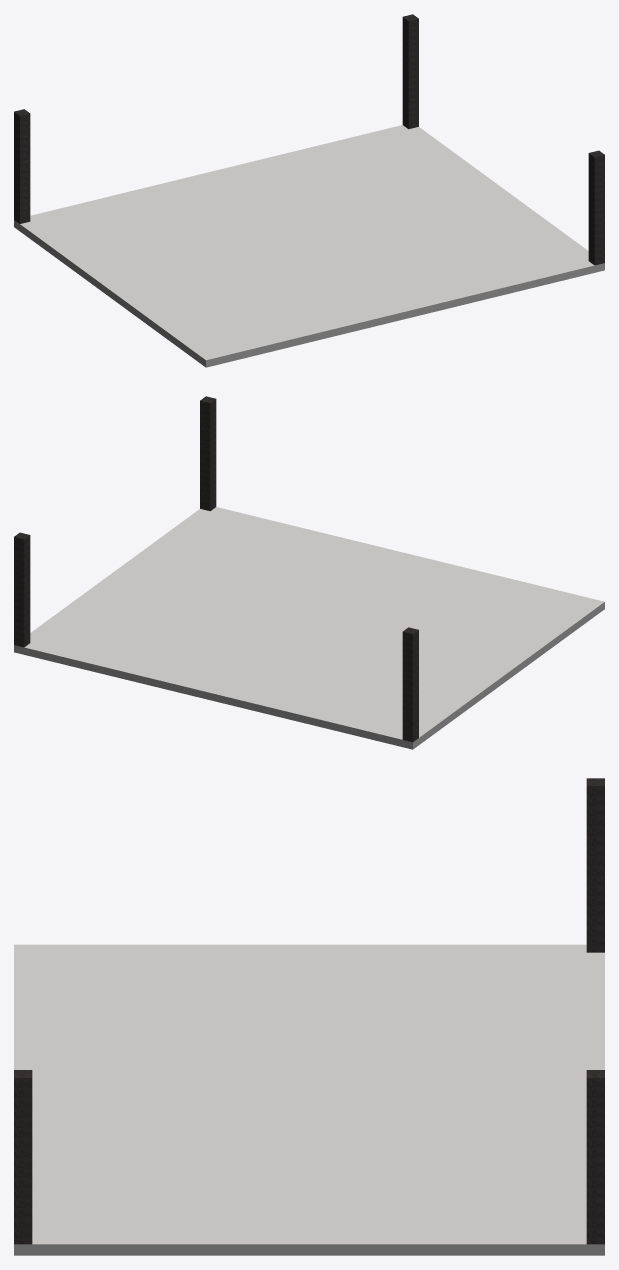
3 views of the same model, one above another, from view 1: azimuth 30°, elevation 25°; view 2: azimuth 150°, elevation 25°; view 3: azimuth 270°, elevation 25° (orthographic). The views are drawn at different scales.
Visible parts, largest first — view 1: Floor Floor-Grnd-Bearing_65Scr-90Ins-125Conc-50SBld-150Hcore, Columns_Rectangular 300 x 300 mm [340360]001, Columns_Rectangular 300 x 300 mm [339867]001, Columns_Rectangular 300 x 300 mm [340123]001; view 2: Floor Floor-Grnd-Bearing_65Scr-90Ins-125Conc-50SBld-150Hcore, Columns_Rectangular 300 x 300 mm [339867]001, Columns_Rectangular 300 x 300 mm [340123]001, Columns_Rectangular 300 x 300 mm [340360]001; view 3: Floor Floor-Grnd-Bearing_65Scr-90Ins-125Conc-50SBld-150Hcore, Columns_Rectangular 300 x 300 mm [339867]001, Columns_Rectangular 300 x 300 mm [340123]001, Columns_Rectangular 300 x 300 mm [340360]001.
Part boxes in pixels (box(x1,y1,x2,y2)): Floor Floor-Grnd-Bearing_65Scr-90Ins-125Conc-50SBld-150Hcore: box(14, 125, 604, 367); Columns_Rectangular 300 x 300 mm [340360]001: box(588, 150, 604, 265); Columns_Rectangular 300 x 300 mm [339867]001: box(14, 109, 30, 223); Columns_Rectangular 300 x 300 mm [340123]001: box(402, 14, 418, 129); Floor Floor-Grnd-Bearing_65Scr-90Ins-125Conc-50SBld-150Hcore: box(14, 507, 604, 749); Columns_Rectangular 300 x 300 mm [339867]001: box(402, 627, 418, 742); Columns_Rectangular 300 x 300 mm [340123]001: box(14, 532, 30, 647); Columns_Rectangular 300 x 300 mm [340360]001: box(200, 396, 216, 511); Floor Floor-Grnd-Bearing_65Scr-90Ins-125Conc-50SBld-150Hcore: box(14, 944, 604, 1255); Columns_Rectangular 300 x 300 mm [339867]001: box(586, 778, 604, 952); Columns_Rectangular 300 x 300 mm [340123]001: box(586, 1070, 604, 1244); Columns_Rectangular 300 x 300 mm [340360]001: box(14, 1070, 32, 1244).
Bounding box in the file's own units: 11.58 × 3.21 × 9.66.
3 materials, 1 textured.
